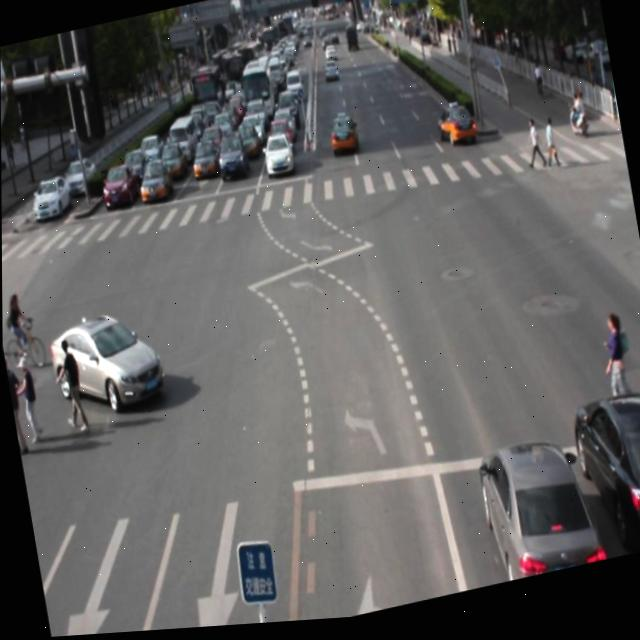car: (474, 446, 595, 592), (46, 305, 166, 423), (568, 401, 640, 571)
